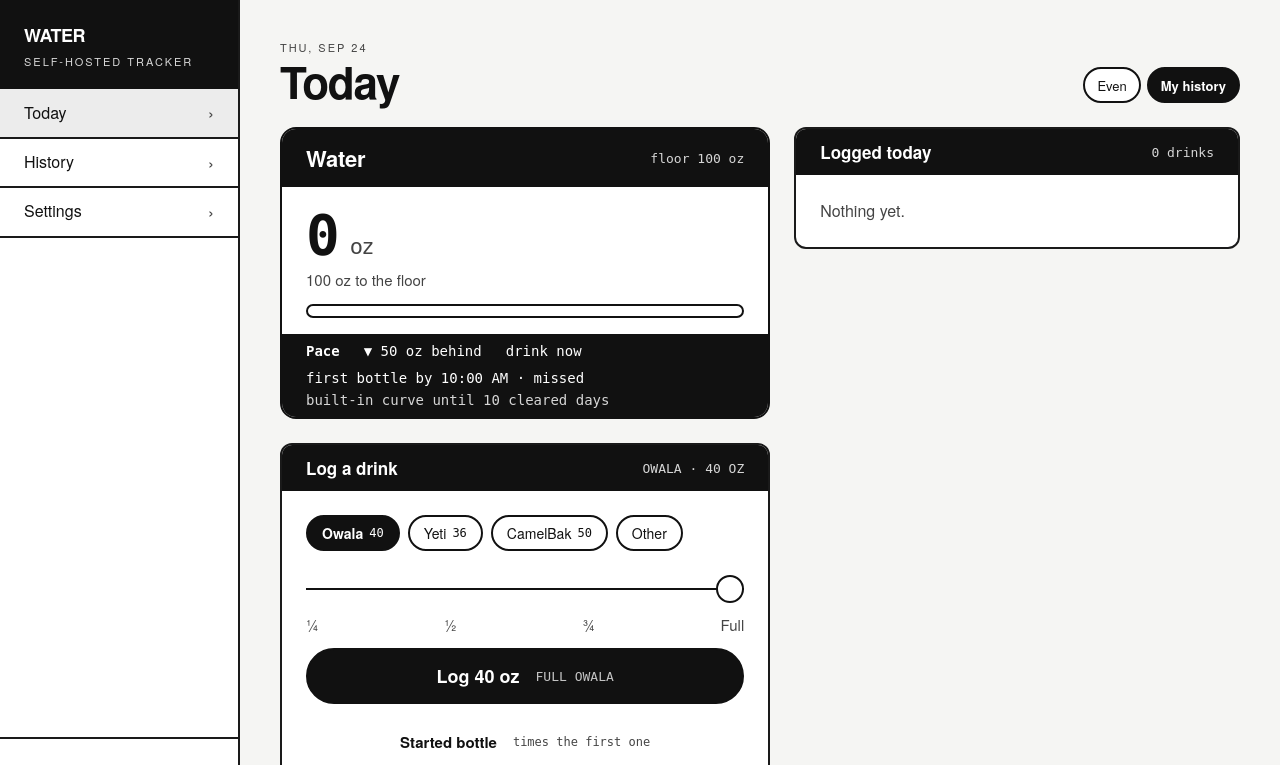
Scenario: Log faster (v1.8) › refill works for a one-off Other amount
Click the button "Other": point(649, 533) [616,515,683,551]
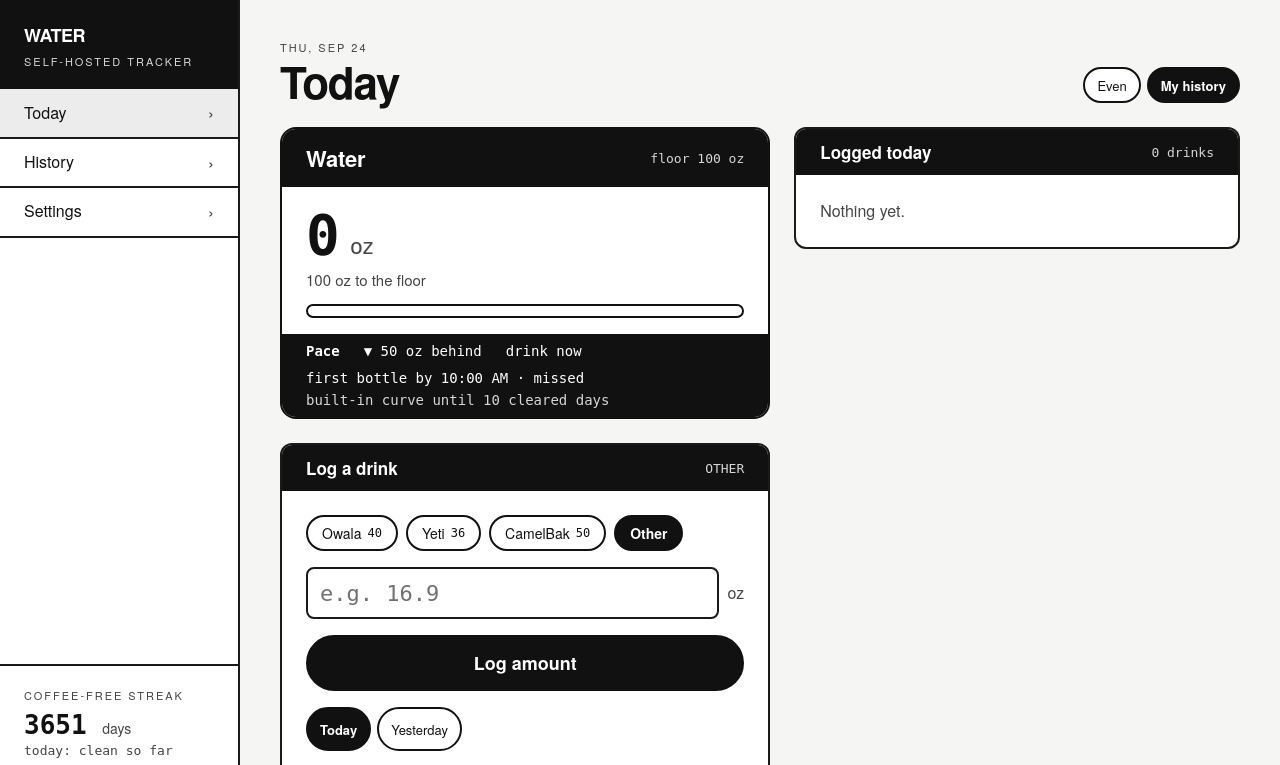
In the number field named "Amount in oz": point(513, 593) [306,567,719,619], type "16.9"
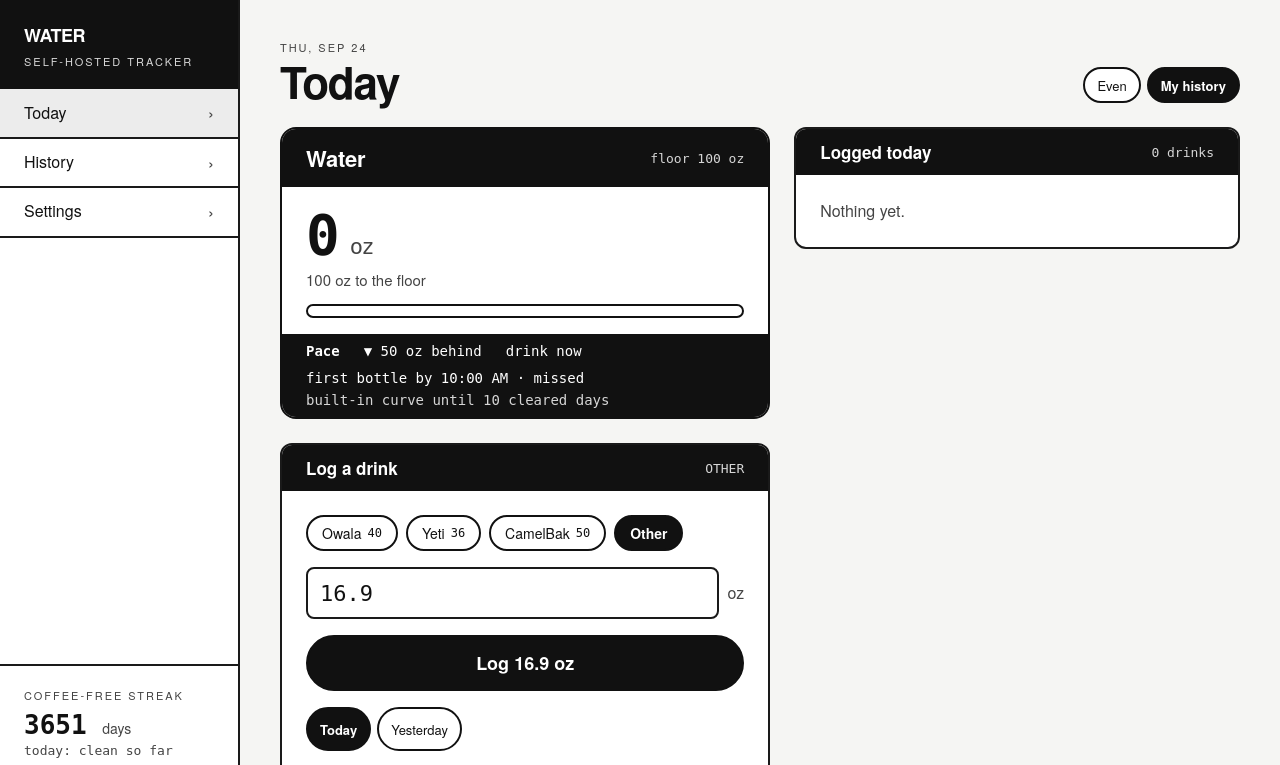
Click the button "Log 16.9 oz": point(525, 663) [306,635,744,691]
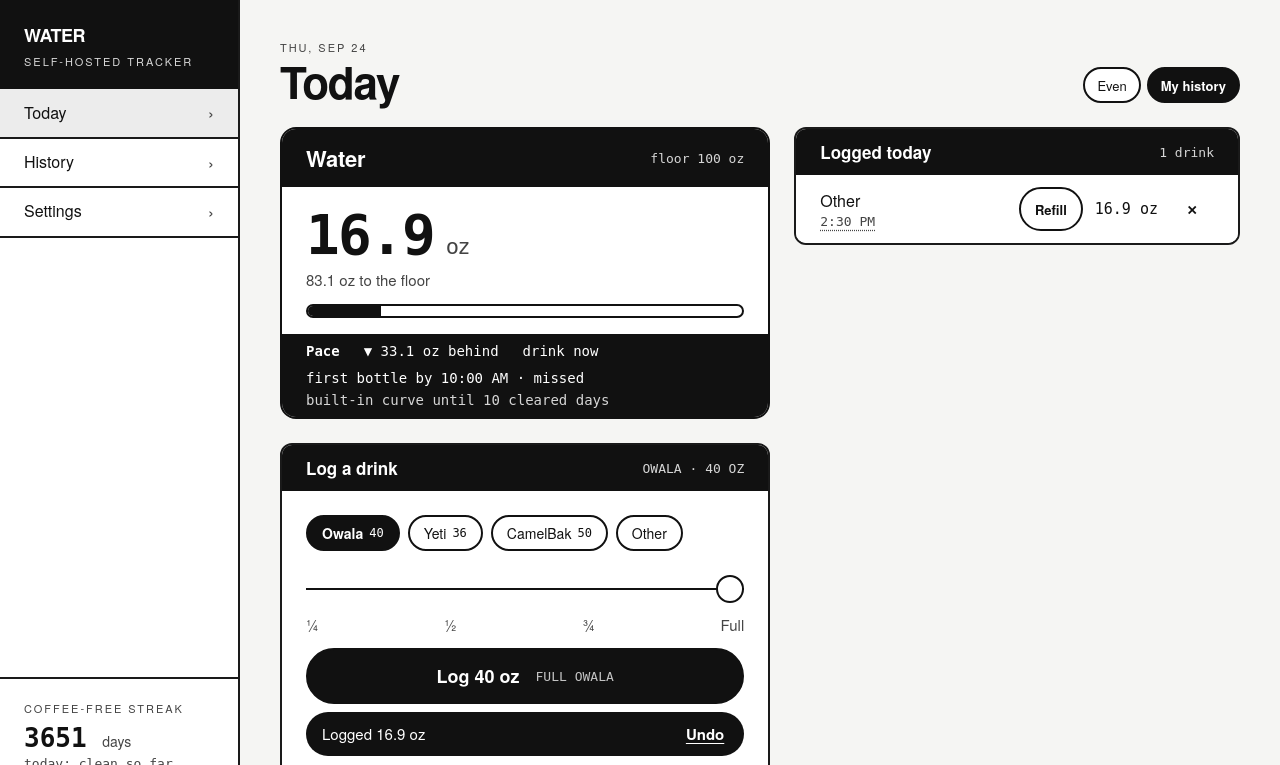
Click the button with aria-label "Refill 16.9 oz": point(1051, 210) [1019,188,1083,232]
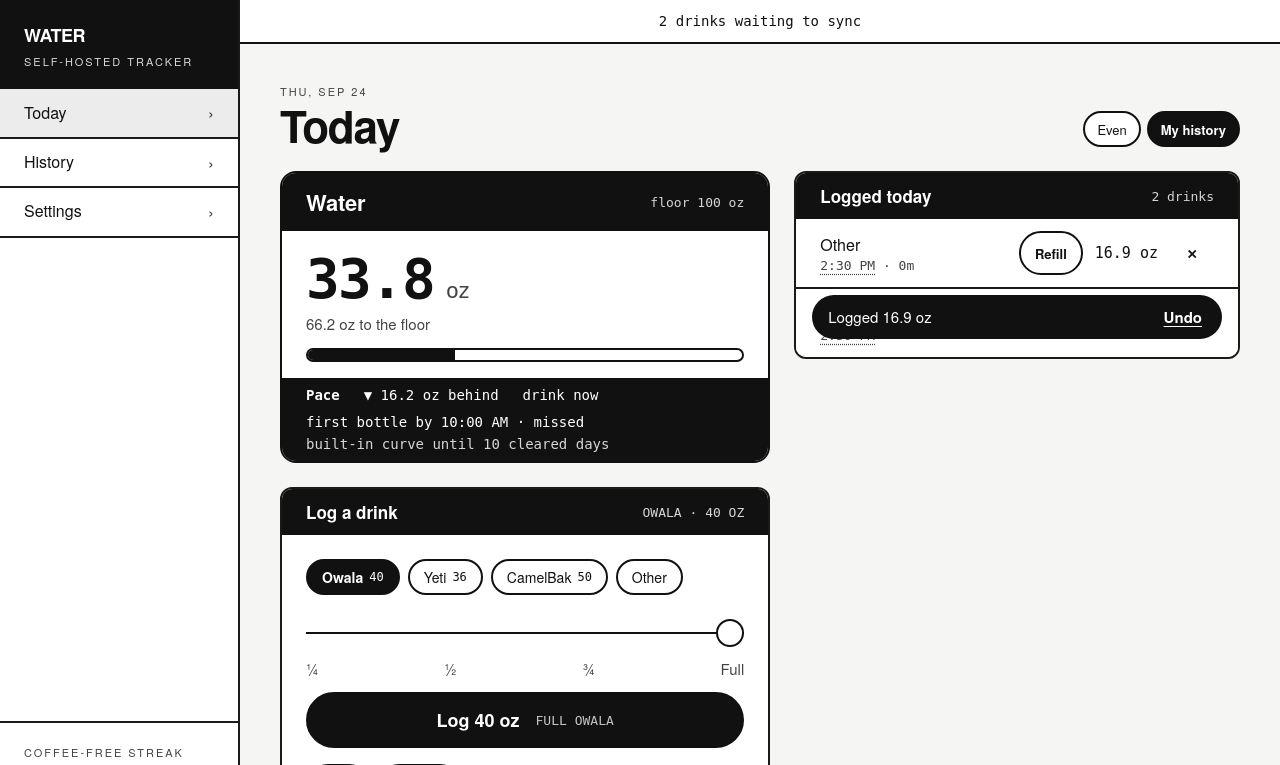
Check: the text "33.8" is shown, box [306,246,434,311]
